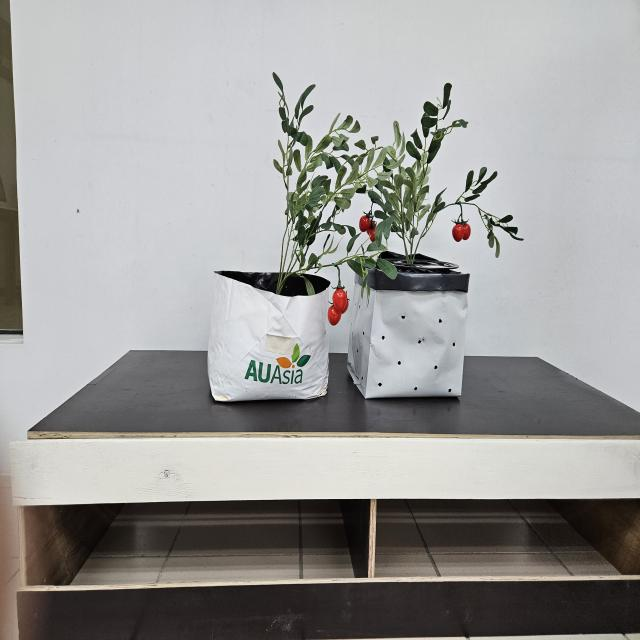Soilbag: (347, 254, 470, 401), (207, 273, 333, 405)
Tomato: (450, 201, 475, 244), (327, 285, 351, 329)
plant: (272, 73, 402, 327), (355, 83, 518, 266)
